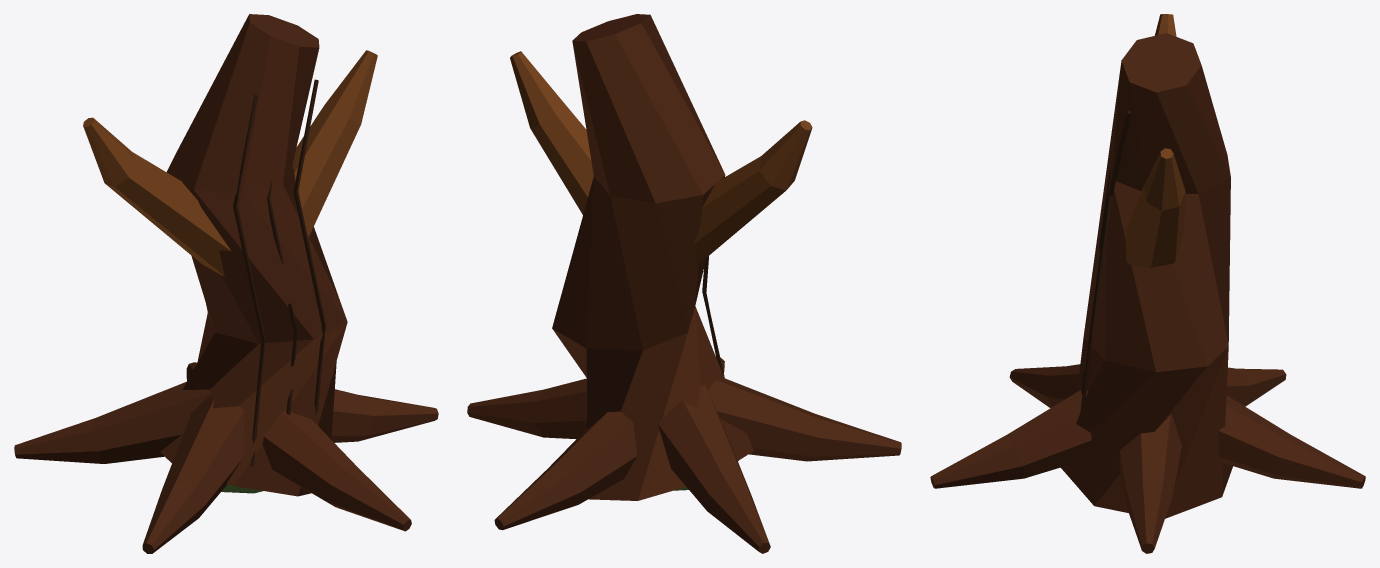
Rendered from forest_tree_snag.glb.
3 renders of one model, left to right at view 1: azimuth 30°, elevation 25°; view 2: azimuth 150°, elevation 25°; view 3: azimuth 270°, elevation 25°, orthographic. The views are drawn at different scales.
Visible parts, largest first — view 1: Ancient twisting trunk, Tree buttress root.002, Tree buttress root.003, Broken woodland branch, Tree buttress root.004, Broken woodland branch.001, Tree buttress root, Tree bark carved groove, Tree bark carved groove.002, Tree bark carved groove.001; view 2: Ancient twisting trunk, Tree buttress root.002, Tree buttress root.003, Tree buttress root.001, Broken woodland branch, Broken woodland branch.001, Tree buttress root; view 3: Ancient twisting trunk, Tree buttress root.004, Tree buttress root.001, Tree buttress root, Broken woodland branch.001, Tree buttress root.003, Tree buttress root.002, Tree bark carved groove.002.
Part boxes in pixels (x1=…): Ancient twisting trunk: x1=160, y1=14, x2=347, y2=496; Tree buttress root.002: x1=14, y1=381, x2=210, y2=463; Tree buttress root.003: x1=142, y1=398, x2=244, y2=553; Broken woodland branch: x1=83, y1=117, x2=231, y2=276; Tree buttress root.004: x1=262, y1=410, x2=411, y2=531; Broken woodland branch.001: x1=292, y1=50, x2=377, y2=236; Tree buttress root: x1=331, y1=389, x2=438, y2=442; Tree bark carved groove: x1=233, y1=94, x2=265, y2=466; Tree bark carved groove.002: x1=293, y1=79, x2=325, y2=415; Tree bark carved groove.001: x1=267, y1=180, x2=297, y2=414; Ancient twisting trunk: x1=552, y1=14, x2=753, y2=500; Tree buttress root.002: x1=659, y1=385, x2=770, y2=553; Tree buttress root.003: x1=708, y1=378, x2=901, y2=461; Tree buttress root.001: x1=494, y1=411, x2=637, y2=530; Broken woodland branch: x1=693, y1=120, x2=812, y2=265; Broken woodland branch.001: x1=510, y1=51, x2=593, y2=214; Tree buttress root: x1=467, y1=378, x2=586, y2=439; Ancient twisting trunk: x1=1060, y1=33, x2=1232, y2=518; Tree buttress root.004: x1=930, y1=390, x2=1091, y2=488; Tree buttress root.001: x1=1218, y1=395, x2=1365, y2=488; Tree buttress root: x1=1119, y1=414, x2=1181, y2=553; Broken woodland branch.001: x1=1126, y1=148, x2=1185, y2=268; Tree buttress root.003: x1=1009, y1=364, x2=1080, y2=407; Tree buttress root.002: x1=1226, y1=367, x2=1286, y2=406; Tree bark carved groove.002: x1=1080, y1=110, x2=1131, y2=412.
Bounding box in the file's own units: 1.54 × 1.88 × 1.61.
